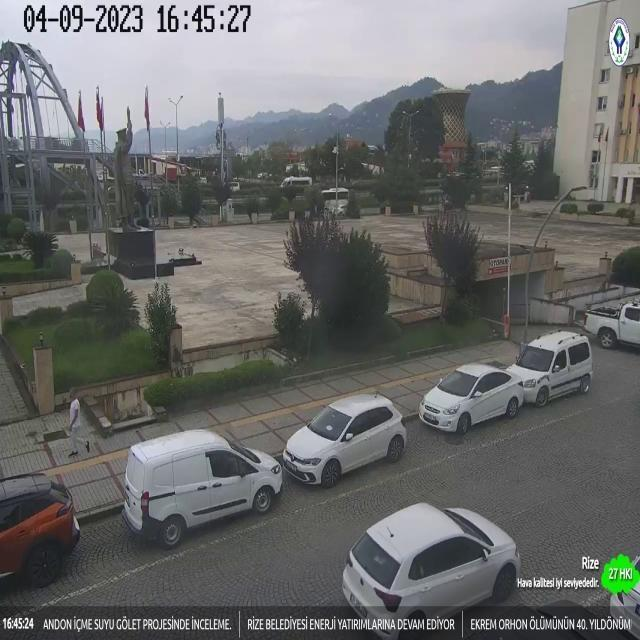Car: (343, 498, 522, 628), (282, 396, 409, 483), (0, 474, 84, 583), (419, 362, 521, 433), (508, 331, 593, 405)
Van: (126, 428, 286, 541)
